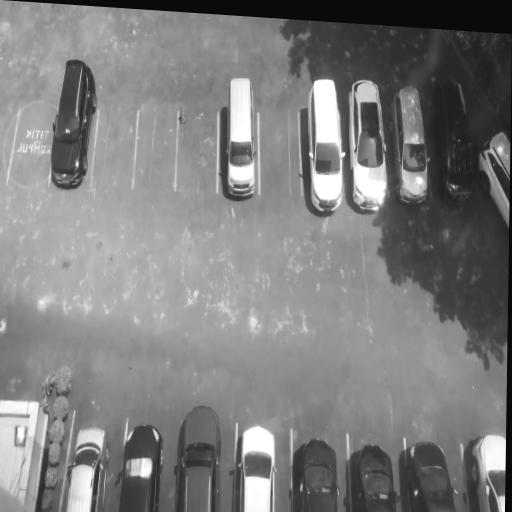Car: (299, 73, 346, 218), (52, 55, 99, 196), (347, 75, 391, 218), (217, 72, 261, 205), (173, 392, 221, 512), (116, 411, 167, 512), (435, 75, 474, 207), (471, 114, 511, 235), (394, 78, 431, 206), (59, 421, 111, 512), (404, 431, 458, 512), (344, 432, 398, 512), (232, 423, 278, 512), (290, 430, 338, 512), (460, 428, 506, 512)
Space Available: (258, 93, 301, 208), (175, 89, 218, 203), (134, 91, 177, 202), (9, 78, 51, 190), (94, 90, 133, 197)
